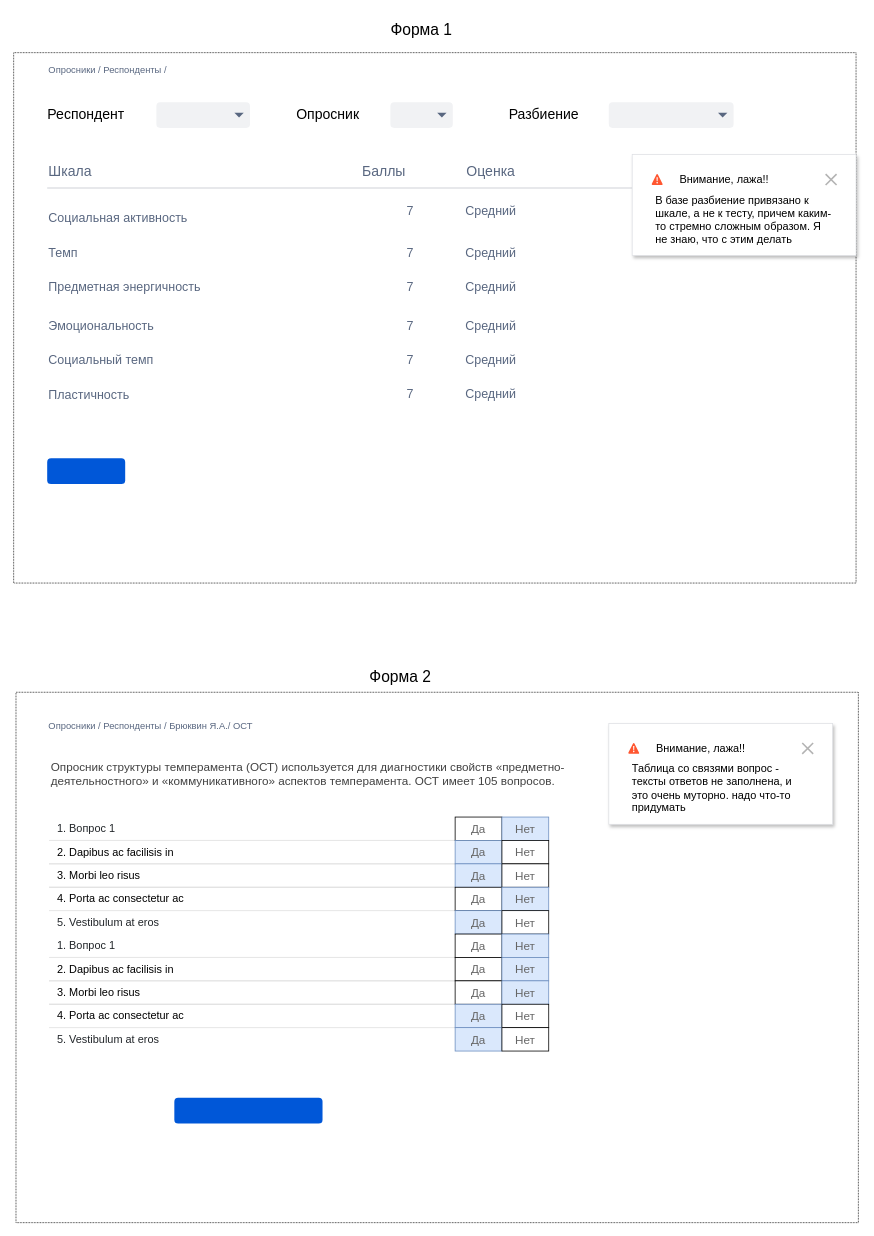
This 874x1236 diagram has some shape labels left out. The centre of each missing label's shape, as x and y in pixels:
Брюквин А.Я.: the point at 203,115
ОСТ: the point at 421,115
Посчитать результат и сохранить: the point at 248,1110
Редактировать: the point at 86,471
Стандартное: the point at 670,115
